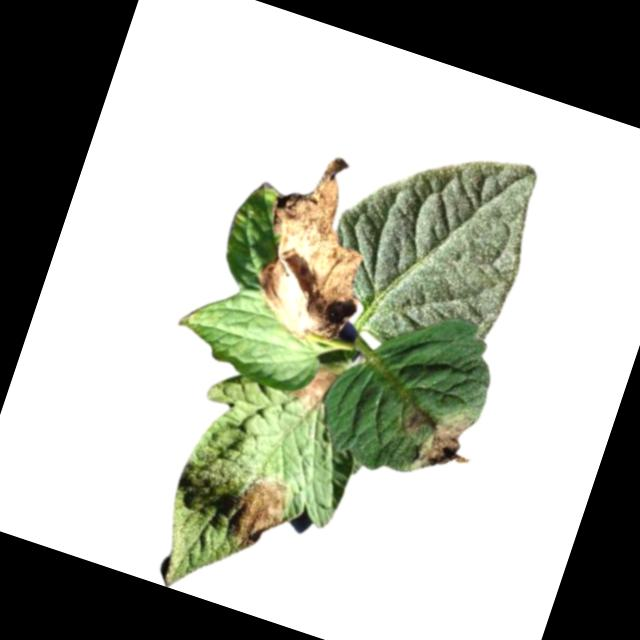Late_blight: (236, 141, 400, 354), (215, 463, 299, 560), (407, 398, 483, 487), (284, 353, 343, 417), (397, 404, 427, 437)
